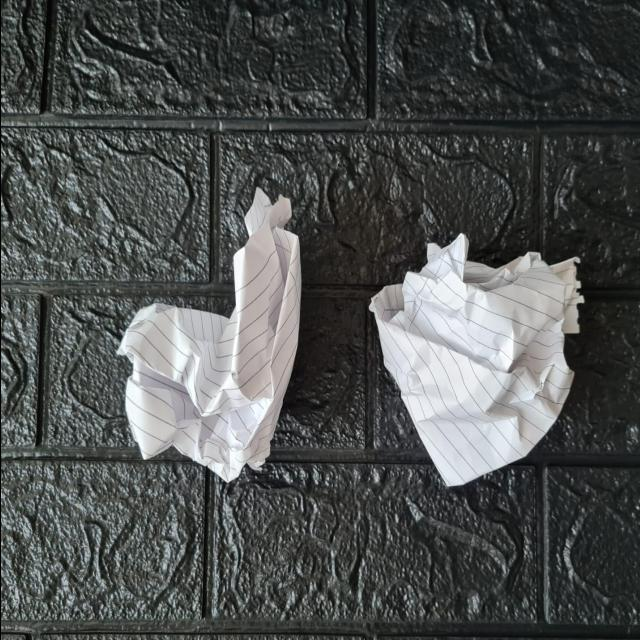kertas: (121, 182, 305, 480), (370, 240, 574, 480)
